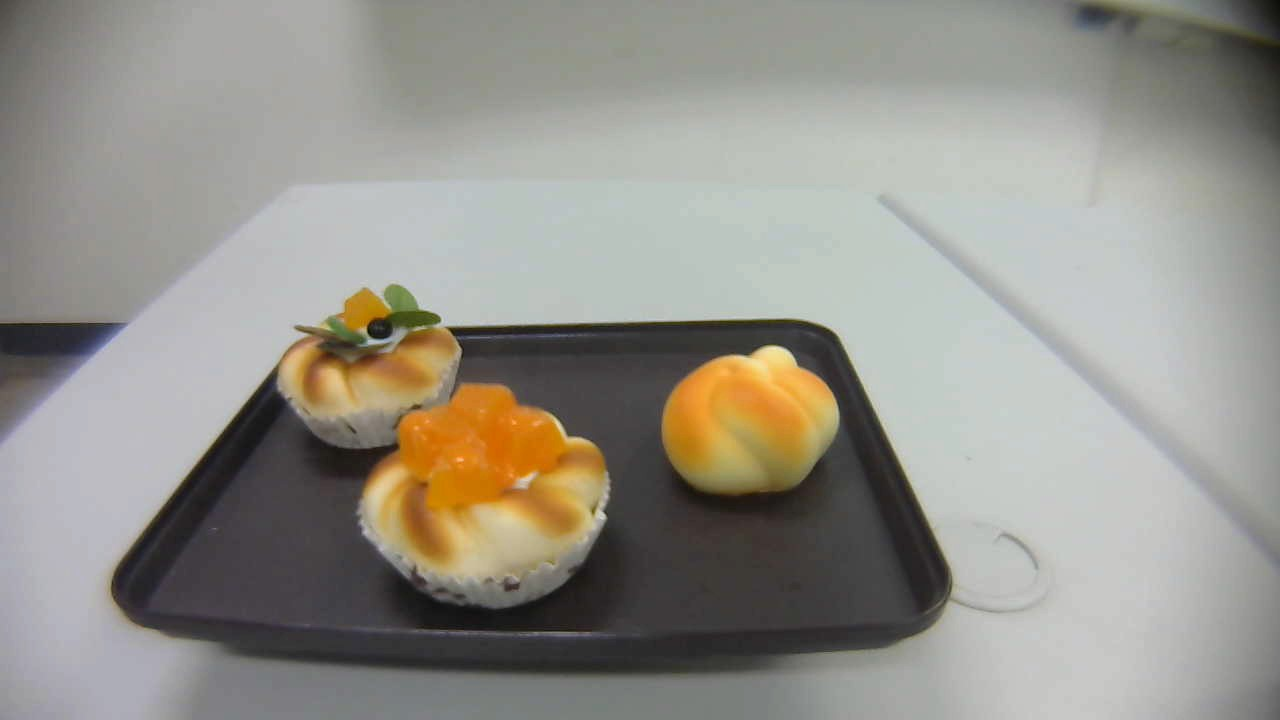fruit tart: (276, 283, 462, 449)
mango tart: (356, 383, 609, 610)
twist bread: (661, 343, 839, 495)
